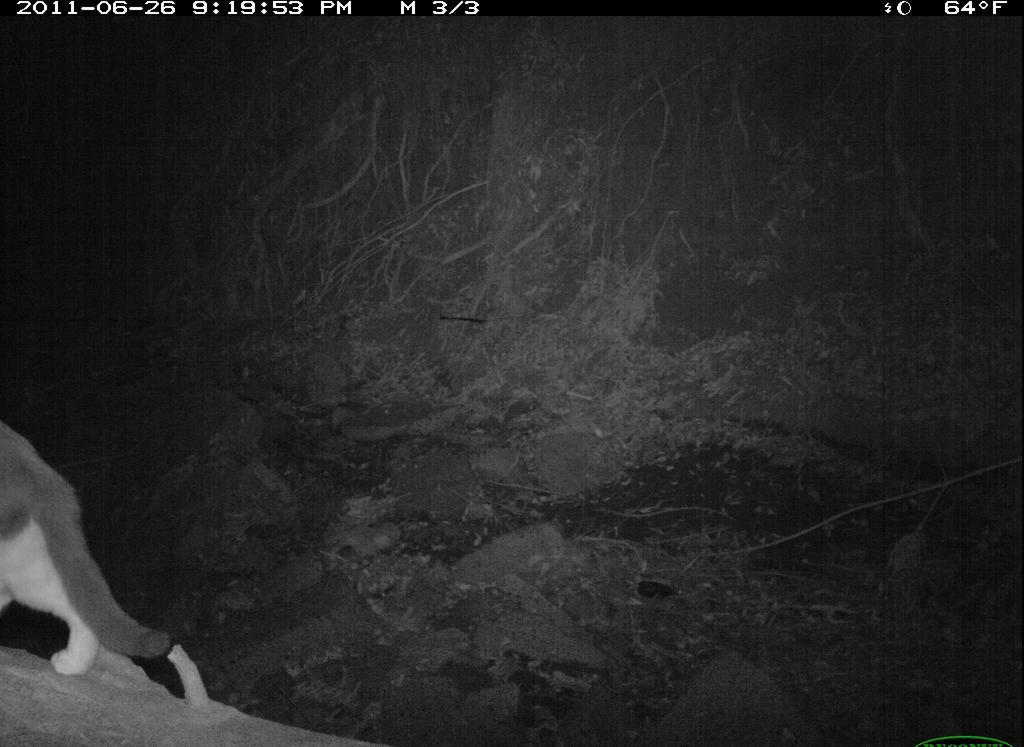cat: (8, 406, 186, 719)
